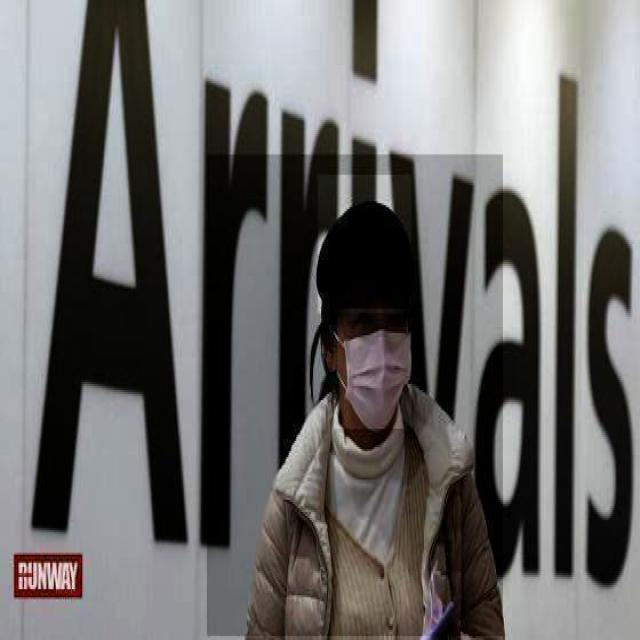face_mask: (334, 309, 411, 429)
head_nohelmet: (318, 175, 411, 313)
person: (207, 154, 504, 638)
